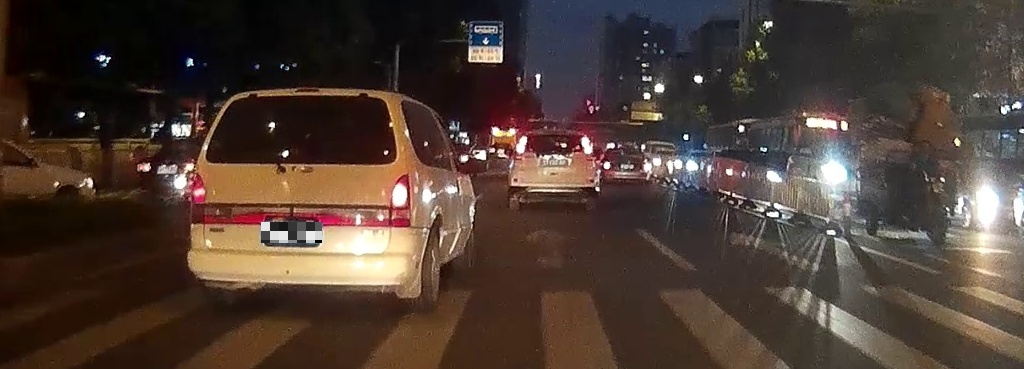L_light: (189, 172, 207, 224), (514, 135, 527, 160)
R_light: (389, 173, 411, 228), (580, 136, 593, 161)
T_light: (295, 88, 320, 93), (548, 134, 563, 137)
night-no: (186, 87, 418, 310), (507, 130, 600, 212)
plate_1: (261, 222, 322, 243)
